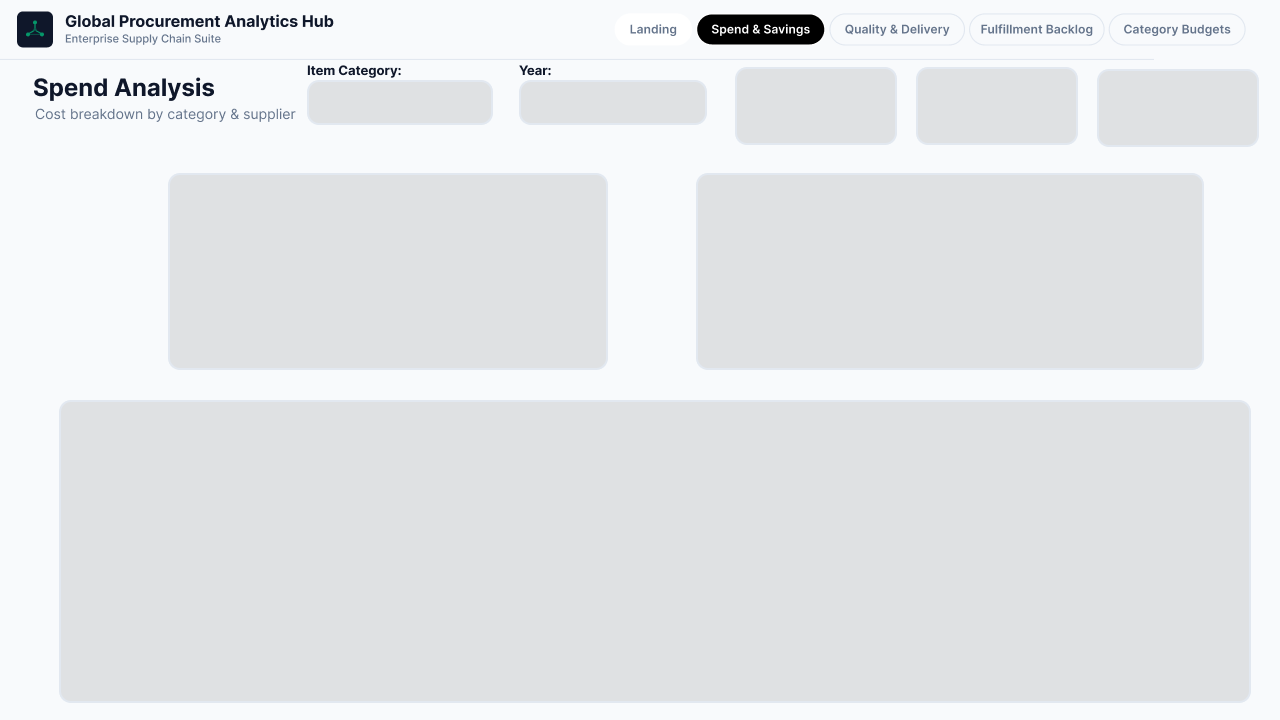

This screenshot's page, from the dashboard's own definition file:
{"tool":"powerbi","page":{"name":"Spend & Cost Savings Analysis","canvas":[1280,720],"ordinal":1},"visuals":[{"type":"slicer","fields":{"Values":["Category Dimension.Item_Category"]},"box":[307,78,187,38],"z":0},{"type":"slicer","fields":{"Values":["Date Dimension.Date.Variation.Date Hierarchy.Year"]},"box":[518,78,187,38],"z":1000},{"type":"clusteredColumnChart","fields":{"Category":["Supplier Dimenson.Supplier"],"Y":["Measure.Total Spend"]},"box":[60,400,1171,299],"z":2000},{"type":"pivotTable","title":"Category Savings Matrix","fields":{"Rows":["Category Dimension.Item_Category"],"Values":["Measure.Total Spend","Measure.Negotiated Savings","Measure.Savings Rate %"]},"box":[169,173,436,187],"z":3000},{"type":"lineClusteredColumnComboChart","fields":{"Category":["Date Dimension.Date.Variation.Date Hierarchy.Month"],"Y":["Measure.Total Spend"],"Y2":["Measure.Total Negotiated Value"]},"box":[699,173,506,194],"z":4000},{"type":"actionButton","box":[612,12,80,34],"z":5000},{"type":"actionButton","box":[699,12,123,34],"z":6000},{"type":"actionButton","box":[838,12,123,34],"z":7000},{"type":"actionButton","box":[974,12,123,34],"z":8000},{"type":"actionButton","box":[1115,12,123,34],"z":9000},{"type":"cardVisual","fields":{"Data":["Measure.Total Spend"]},"box":[735,61,157,86],"z":10000},{"type":"cardVisual","fields":{"Data":["Measure.Negotiated Savings"]},"box":[915,61,157,86],"z":11000},{"type":"cardVisual","fields":{"Data":["Measure.Savings Rate %"]},"box":[1097,61,157,86],"z":12000}]}

Visuals, with their boxes on the page's 1280x720 design canvas (x1, y1, x2, y2). These are canvas units, not pixel positions in the 1280x720 screenshot, which may show the page scaled, cropped or inside an application window:
slicer - Category Dimension.Item_Category: bbox=[307, 78, 494, 116]
slicer - Date Dimension.Date.Variation.Date Hierarchy.Year: bbox=[518, 78, 705, 116]
clusteredColumnChart - Supplier Dimenson.Supplier x Measure.Total Spend: bbox=[60, 400, 1231, 699]
"Category Savings Matrix" pivotTable: bbox=[169, 173, 605, 360]
lineClusteredColumnComboChart - Date Dimension.Date.Variation.Date Hierarchy.Month x Measure.Total Spend: bbox=[699, 173, 1205, 367]
actionButton: bbox=[612, 12, 692, 46]
actionButton: bbox=[699, 12, 822, 46]
actionButton: bbox=[838, 12, 961, 46]
actionButton: bbox=[974, 12, 1097, 46]
actionButton: bbox=[1115, 12, 1238, 46]
cardVisual - Measure.Total Spend: bbox=[735, 61, 892, 147]
cardVisual - Measure.Negotiated Savings: bbox=[915, 61, 1072, 147]
cardVisual - Measure.Savings Rate %: bbox=[1097, 61, 1254, 147]
